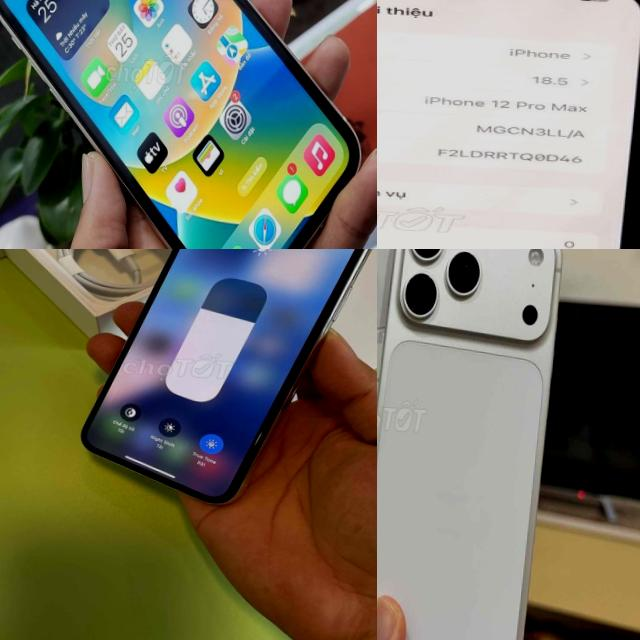gen_11: (0, 0, 377, 249)
gen_12_13: (377, 0, 640, 249)
gen_17: (377, 249, 563, 640)
gen_x_xs: (81, 249, 371, 503)
